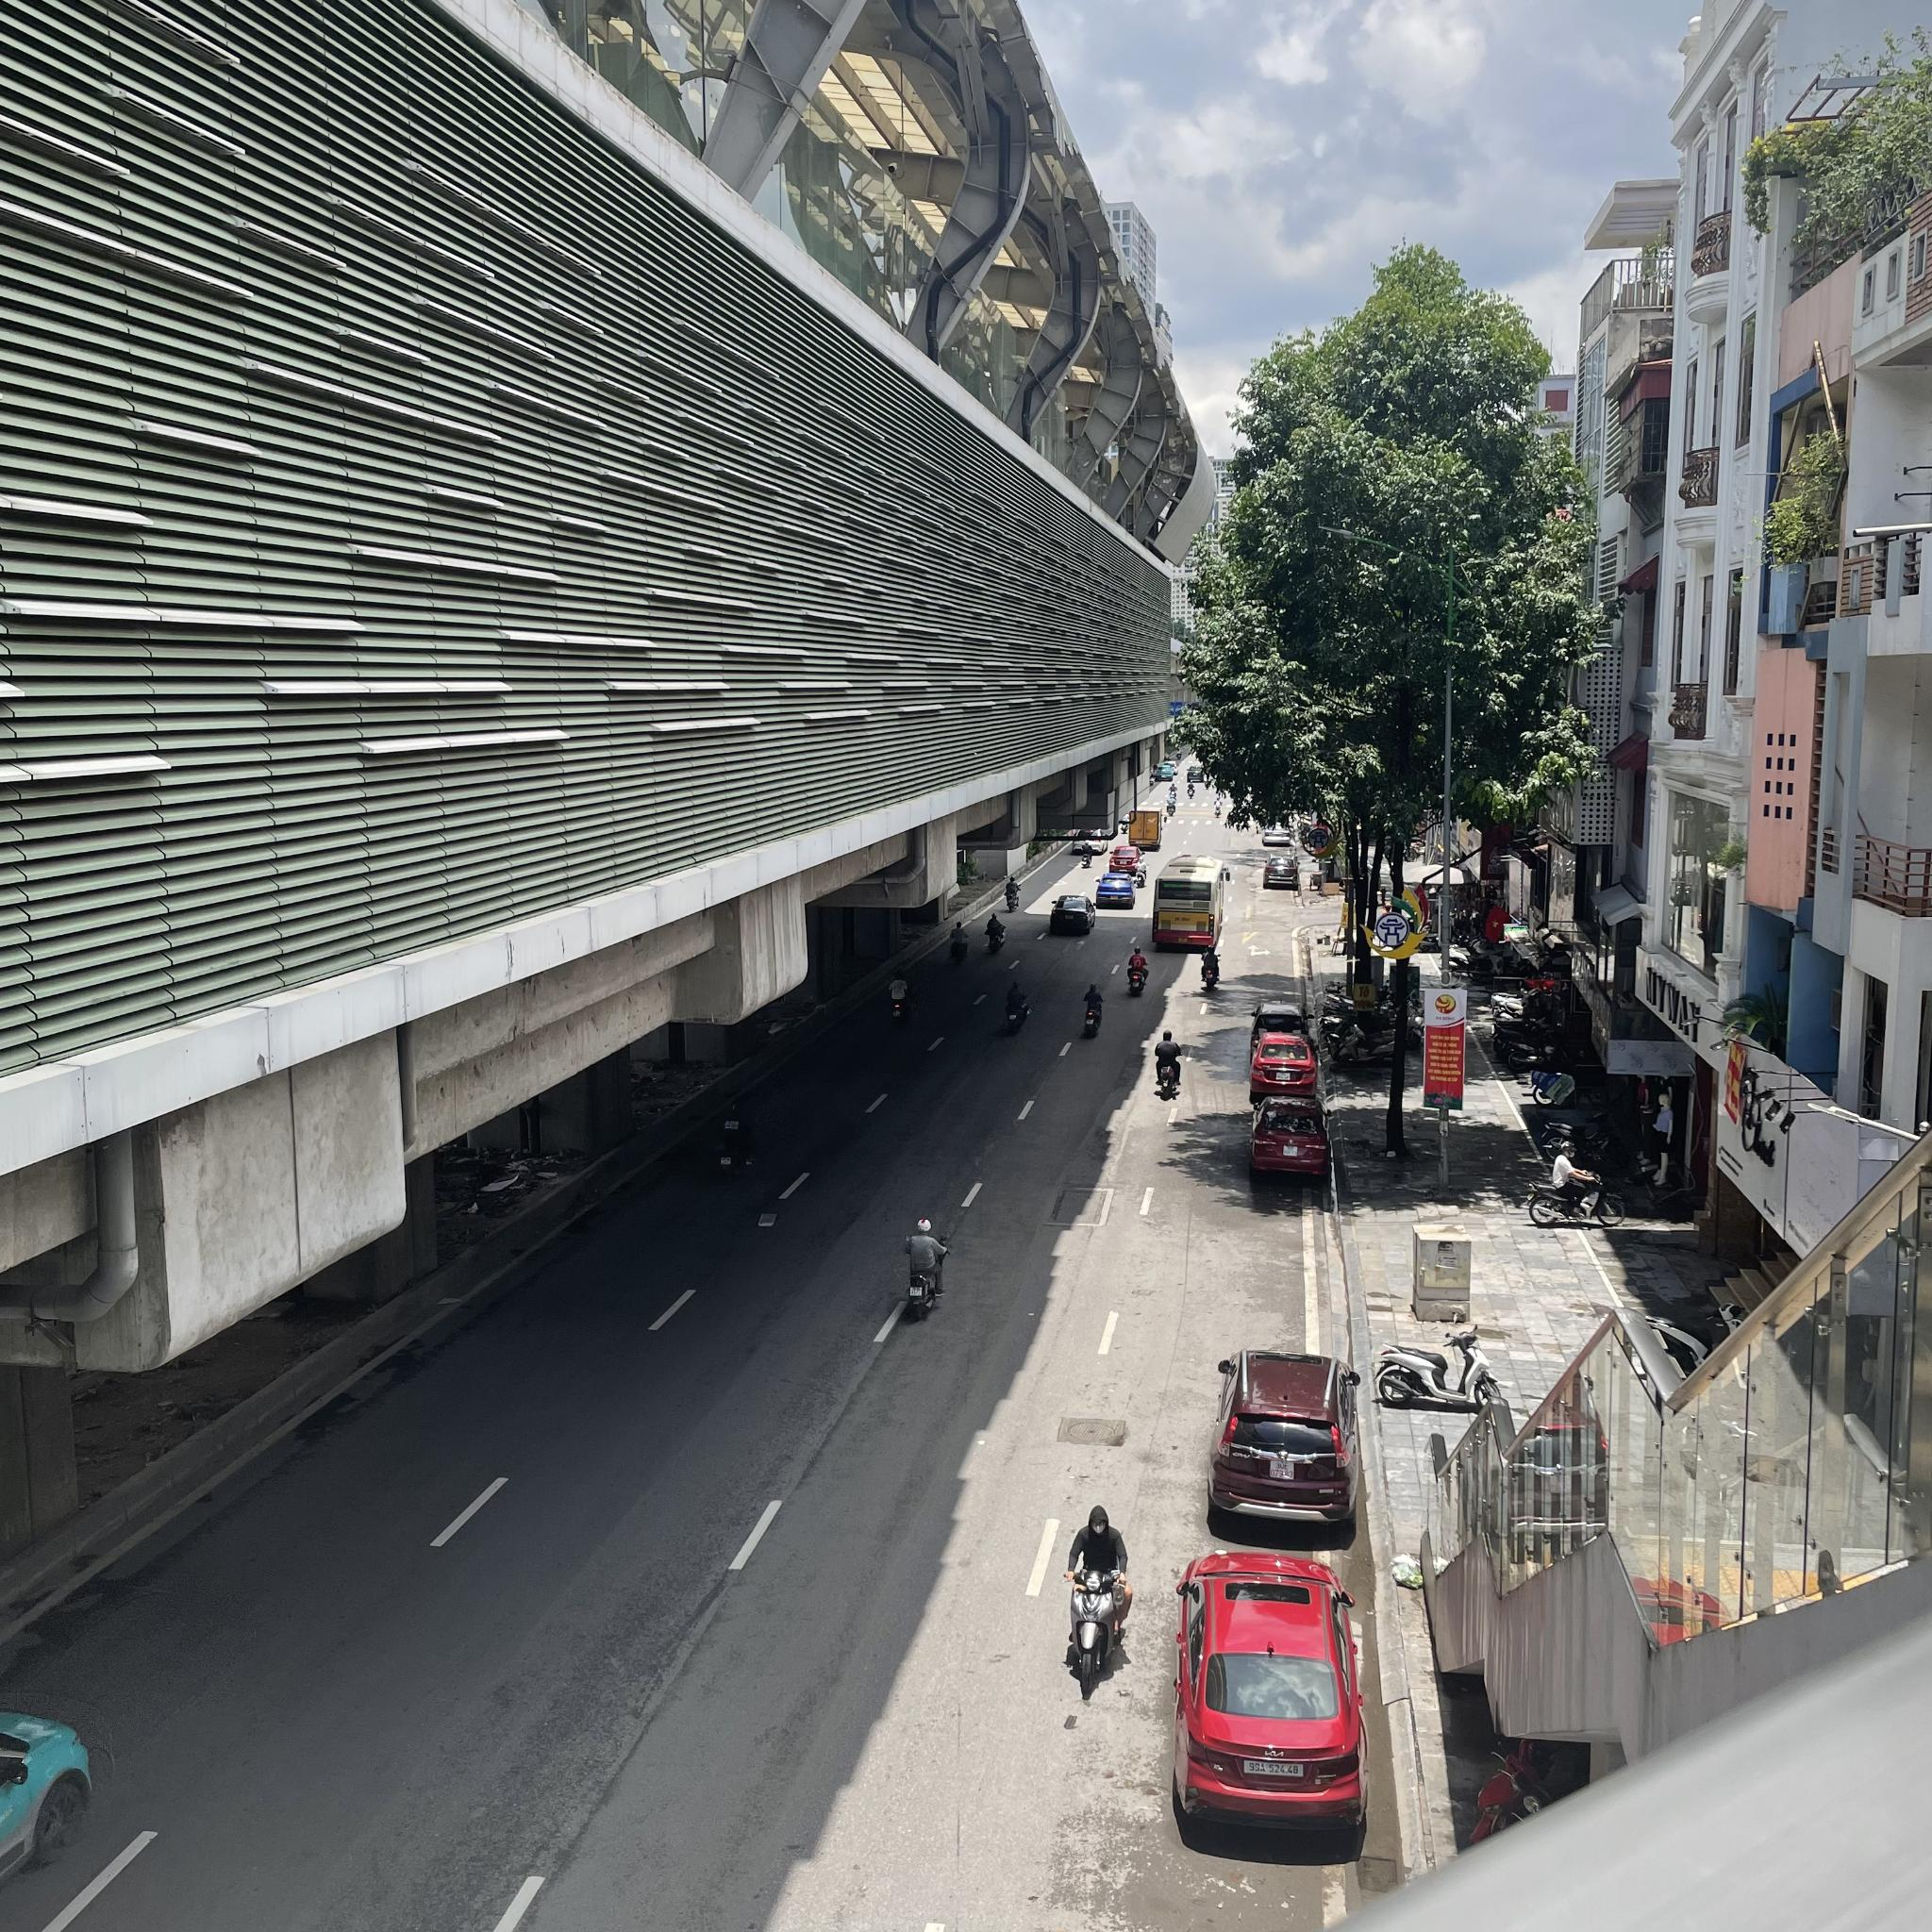car: (1171, 1552, 1369, 1840), (1205, 1348, 1362, 1532), (1150, 853, 1230, 948), (1249, 1097, 1332, 1180), (1247, 1031, 1318, 1097), (1249, 1000, 1311, 1058), (1049, 893, 1095, 936), (1261, 849, 1300, 890), (1095, 870, 1138, 908)
motobike: (1062, 1506, 1131, 1697), (901, 1217, 945, 1309), (717, 1102, 755, 1175), (1154, 1031, 1182, 1095), (1003, 982, 1030, 1033), (1081, 982, 1104, 1039), (1125, 945, 1148, 1000), (888, 975, 911, 1019), (947, 920, 968, 964), (985, 913, 1008, 954), (1201, 945, 1221, 991), (1003, 876, 1023, 911), (1132, 856, 1148, 888)
